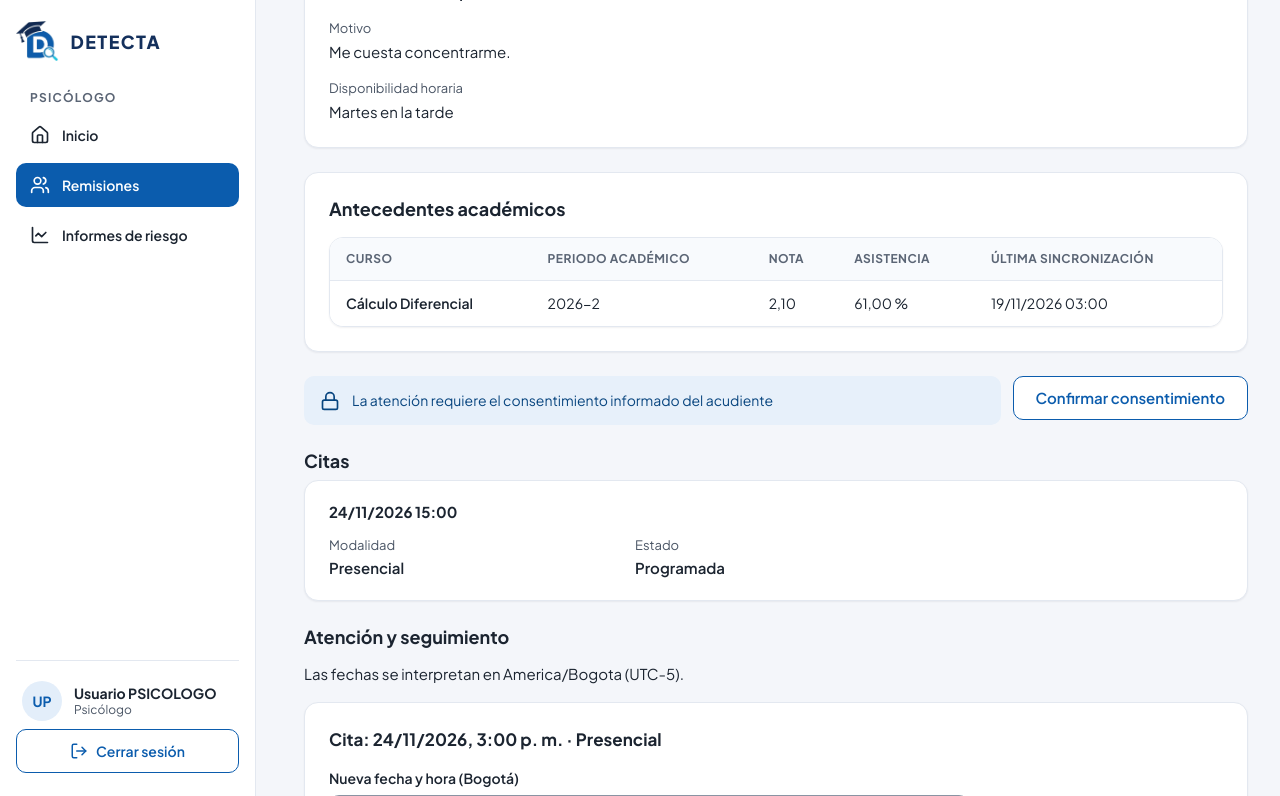
Test case: Consentimiento en un diálogo modal (D7a, §7.6) › con Cancelar: se cierra, el foco vuelve al botón que lo abrió y la casilla se reinicia
This screenshot has width=1280, height=796.
(page scrolled)
What coordinates should you click on to do the following:
click the button "Confirmar consentimiento"
I would click on:
 (1130, 398)
Its box is [1013, 376, 1248, 420].
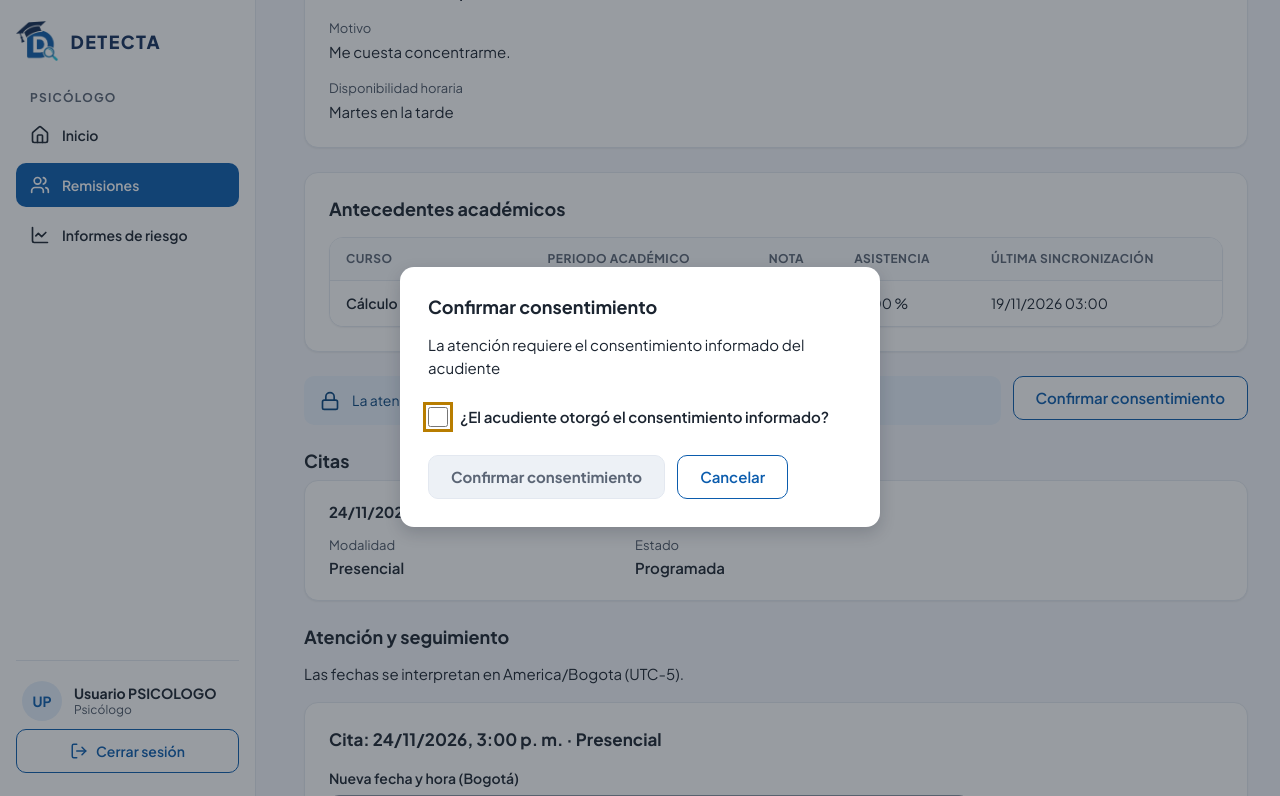
What coordinates should you click on to do the following:
click the checkbox labelled "¿El acudiente otorgó el consentimiento informado?"
I would click on:
 (438, 417)
Its box is [428, 407, 448, 427].
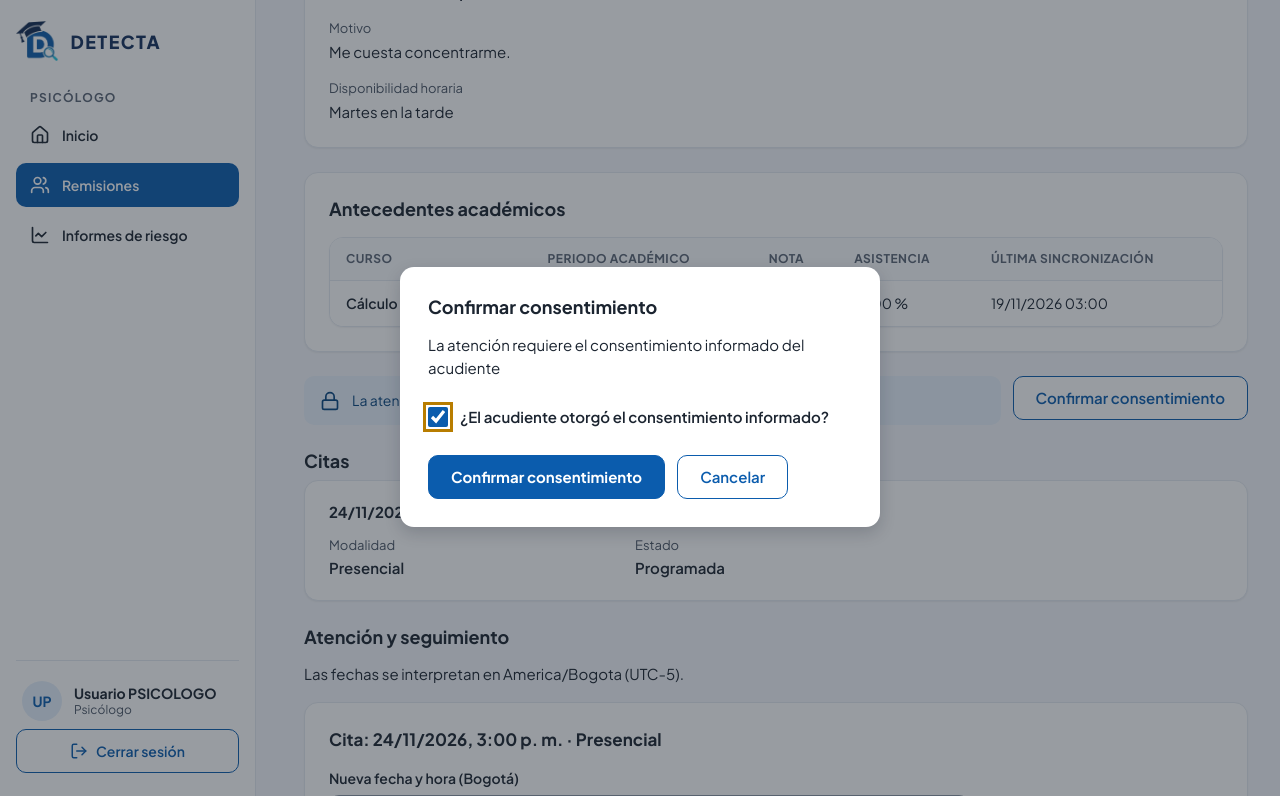
What coordinates should you click on to do the following:
click the button "Cancelar"
I would click on:
 (733, 477)
Its box is [677, 455, 788, 499].
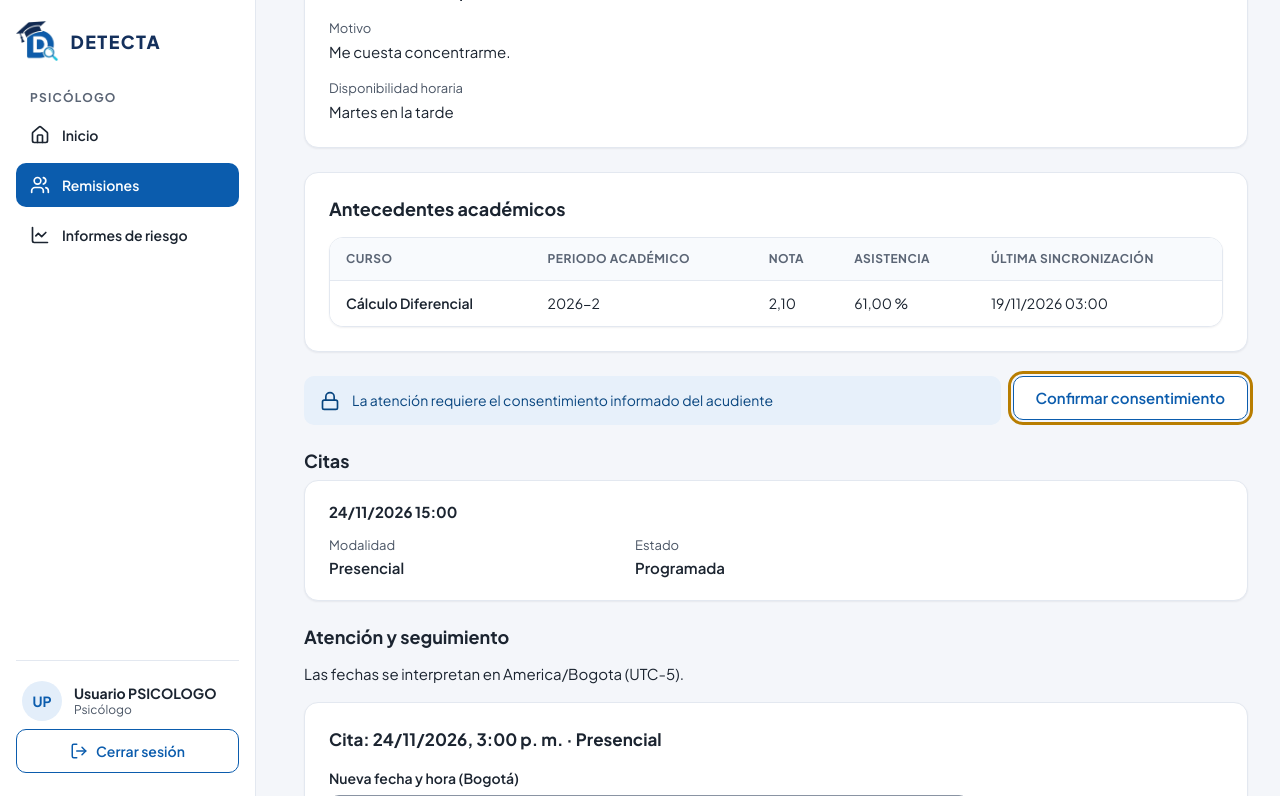
What coordinates should you click on to do the following:
click the button "Confirmar consentimiento"
I would click on:
 (1130, 398)
Its box is [1013, 376, 1248, 420].
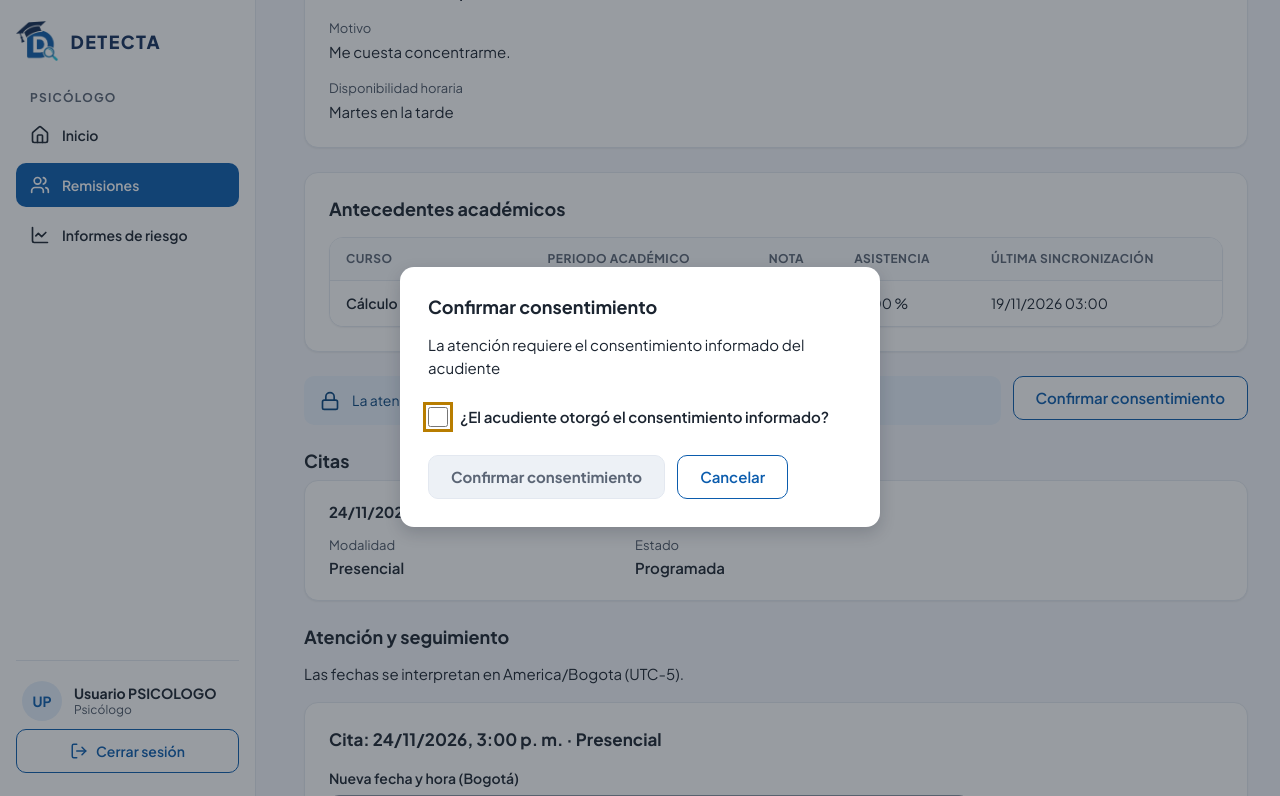
Check: the checkbox labelled "¿El acudiente otorgó el consentimiento informado?" is not checked, box [428, 407, 448, 427]
